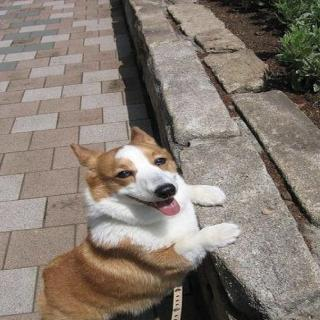dog: (56, 127, 228, 223)
nose: (151, 182, 178, 201)
